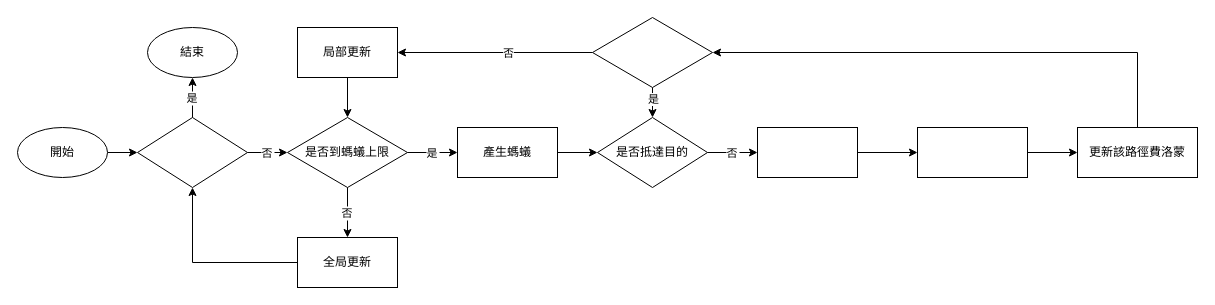
Image size: 1215x305. Some labels were removed from this diagram. The shapes that lost their labels are listed below. From the top down, each one's centre as x and y in pixels, then its label:
At point (652, 52): "是否存在可移動點".
At point (192, 152): "是否到迭代上限".
At point (807, 152): "輪盤賭選擇".
At point (972, 152): "更新禁止移動表".
